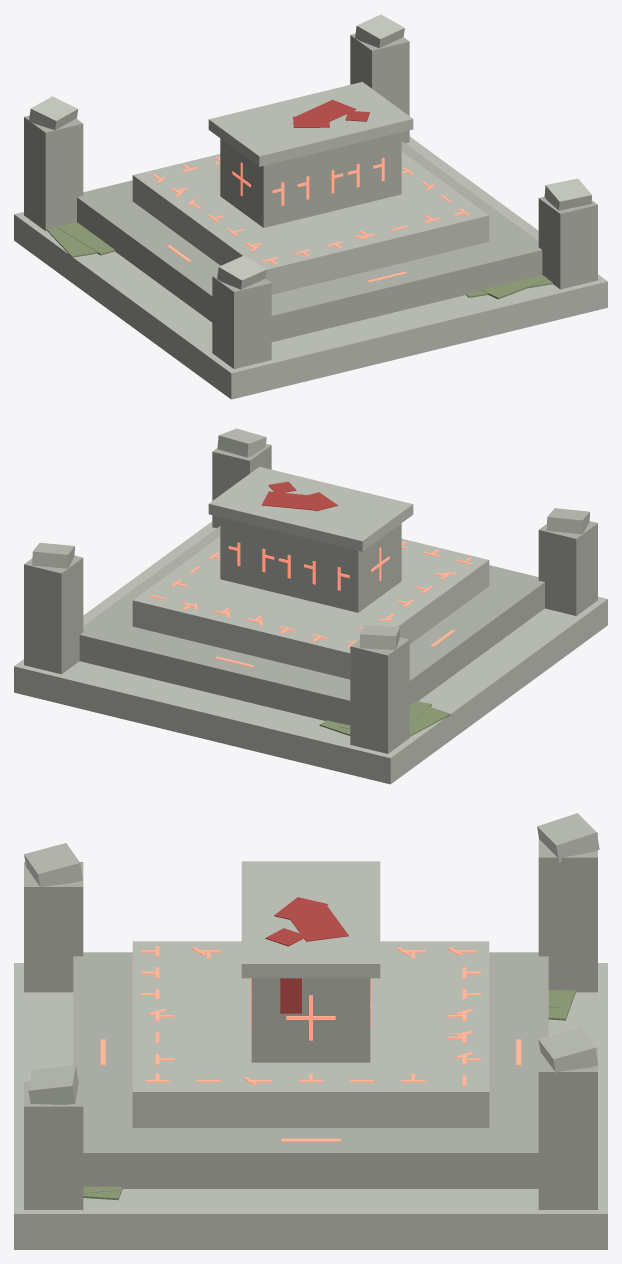
The model's file is ruin_altar.glb.
The picture shows the model from 3 angles, top to bottom: view 1: azimuth 30°, elevation 25°; view 2: azimuth 150°, elevation 25°; view 3: azimuth 270°, elevation 25°; orthographic projection. The views are drawn at different scales.
Visible parts, largest first — view 1: ruin_altar; view 2: ruin_altar; view 3: ruin_altar.
Boxes of the visible parts, x1,y1,x2,y2 form: ruin_altar: (14,14,607,399); ruin_altar: (14,428,607,784); ruin_altar: (14,813,607,1249).
Size of the model in its own units: 6.02 by 2.37 by 6.
